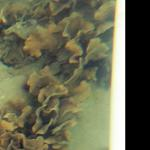alive: (5, 2, 122, 148)
